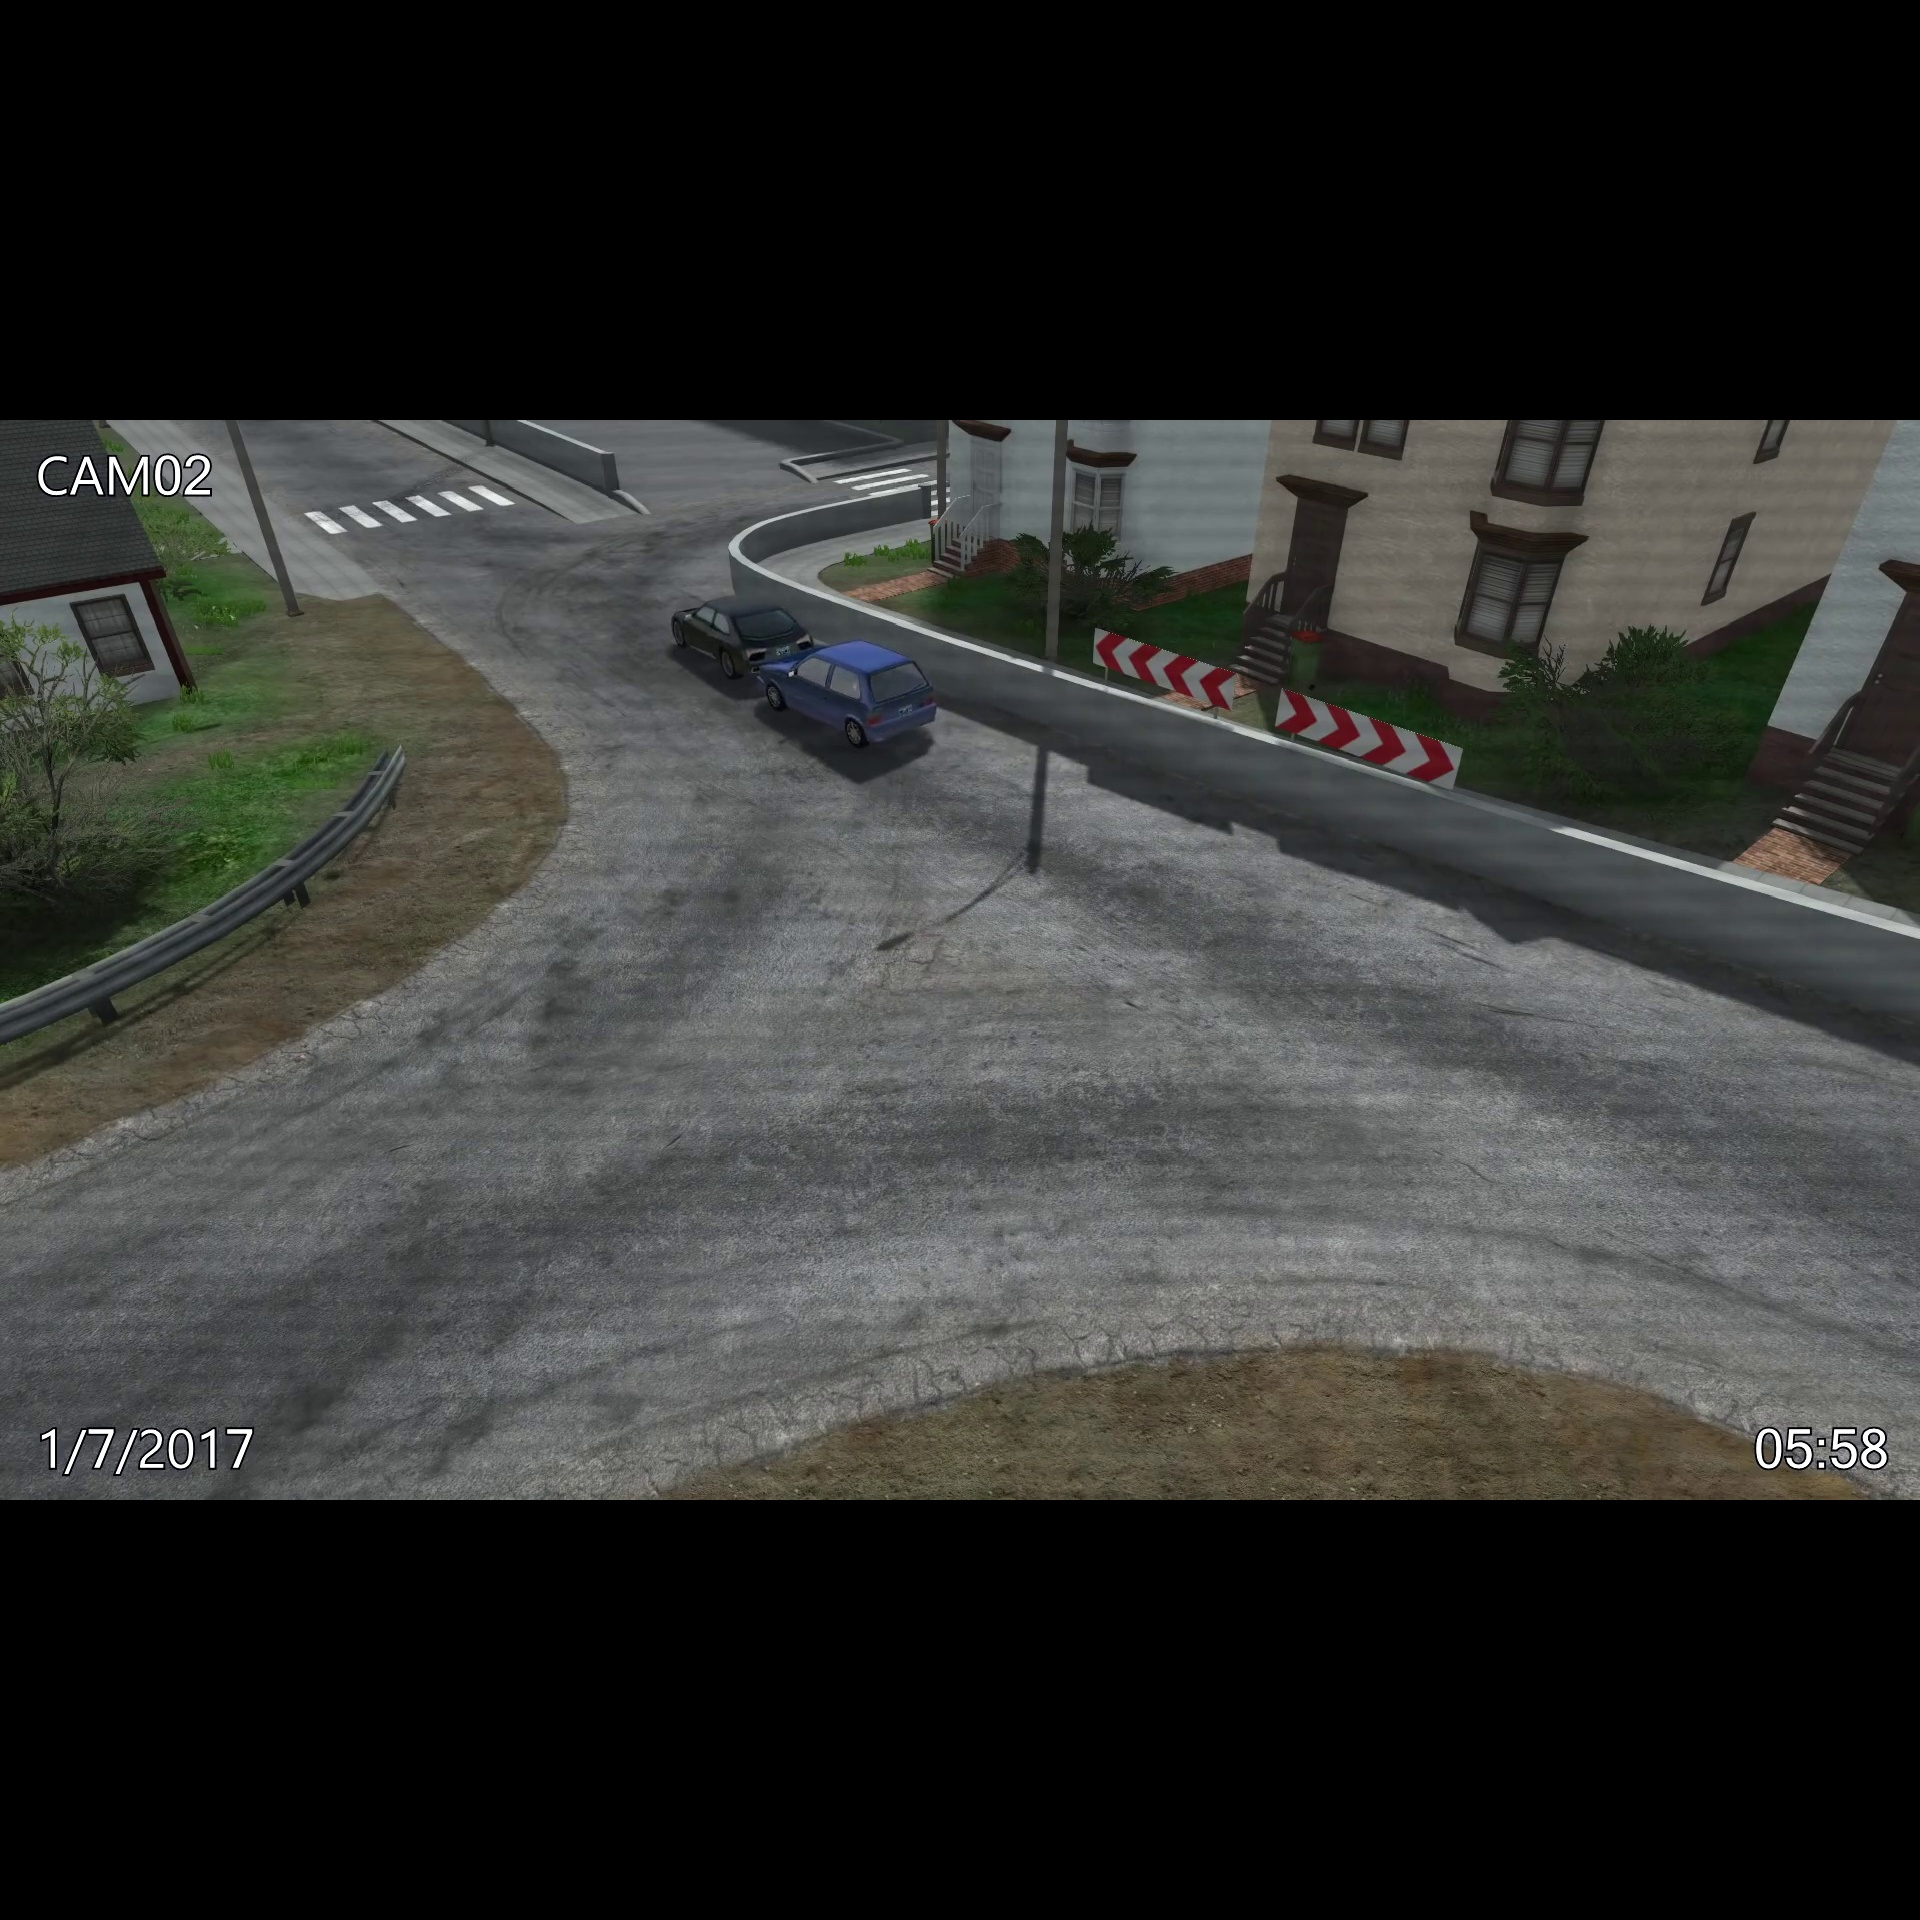vehicle: (758, 642, 944, 751), (663, 591, 814, 682)
